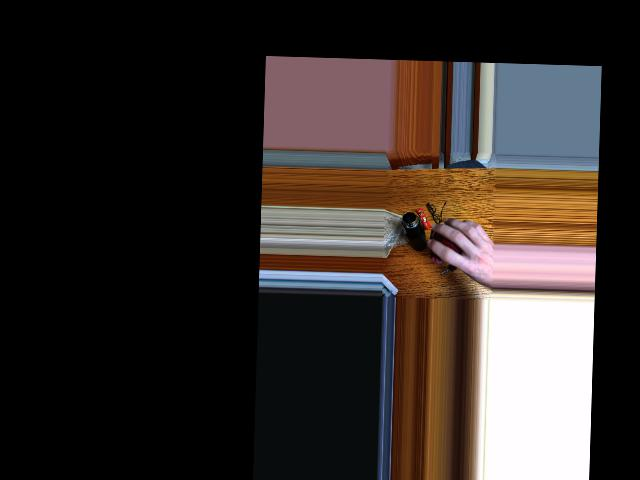onion: (436, 223, 469, 264)
